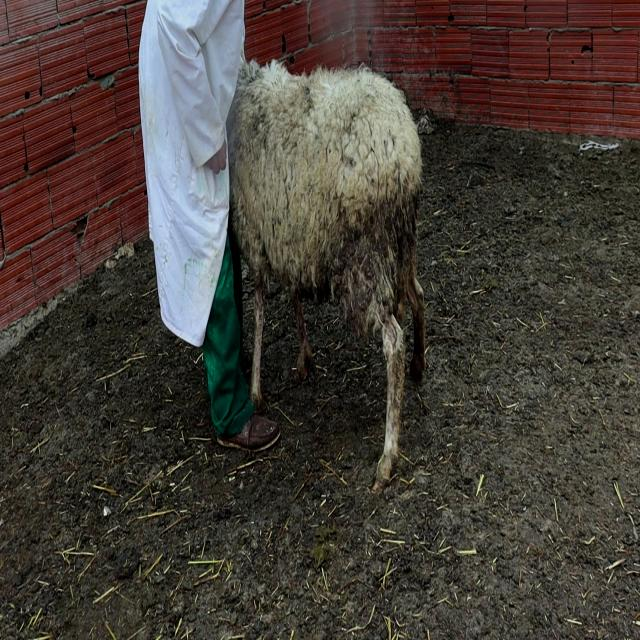Score_2: (229, 60, 426, 490)
